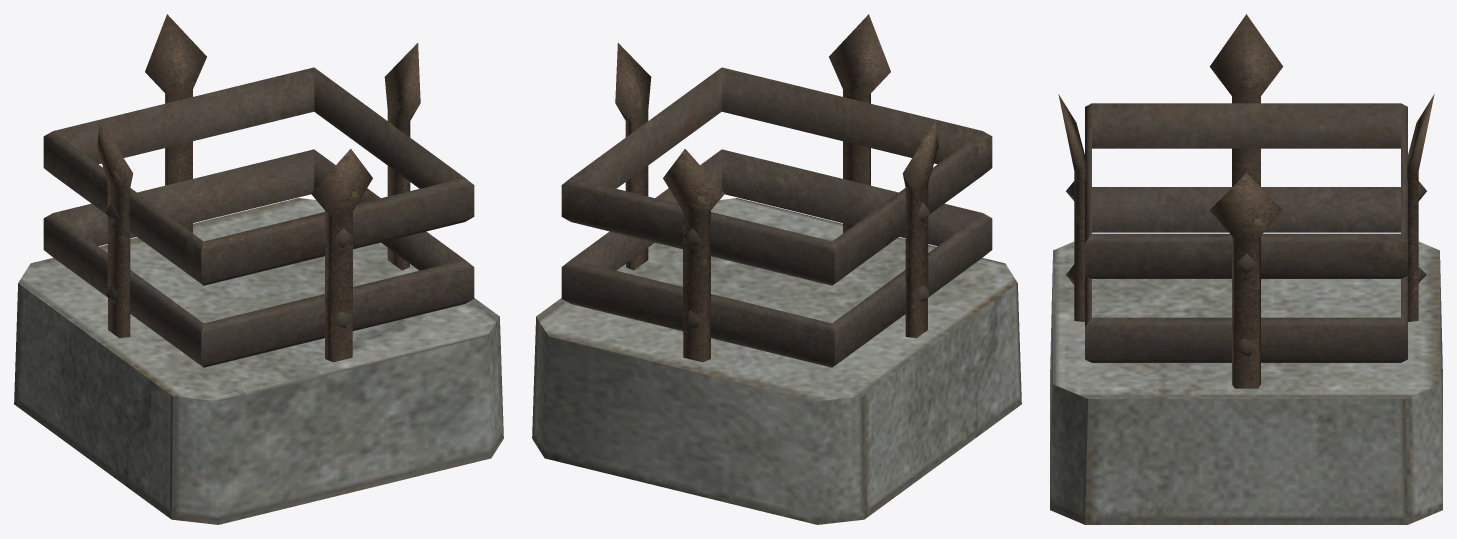
The model's file is plinth_fire_sml.fbx.
3 views of the same model, side by side, from view 1: azimuth 30°, elevation 25°; view 2: azimuth 150°, elevation 25°; view 3: azimuth 270°, elevation 25° (orthographic). The views are drawn at different scales.
Visible parts, largest first — view 1: plinth_fire_sml; view 2: plinth_fire_sml; view 3: plinth_fire_sml.
Part boxes in pixels (x1,y1,x2,y2): plinth_fire_sml: [14, 14, 503, 524]; plinth_fire_sml: [532, 14, 1021, 524]; plinth_fire_sml: [1050, 14, 1442, 524].
Bounding box in the file's own units: 28 × 27.4 × 28.
